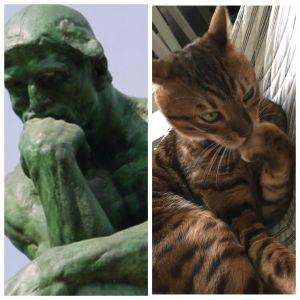bengal: (135, 1, 273, 151)
